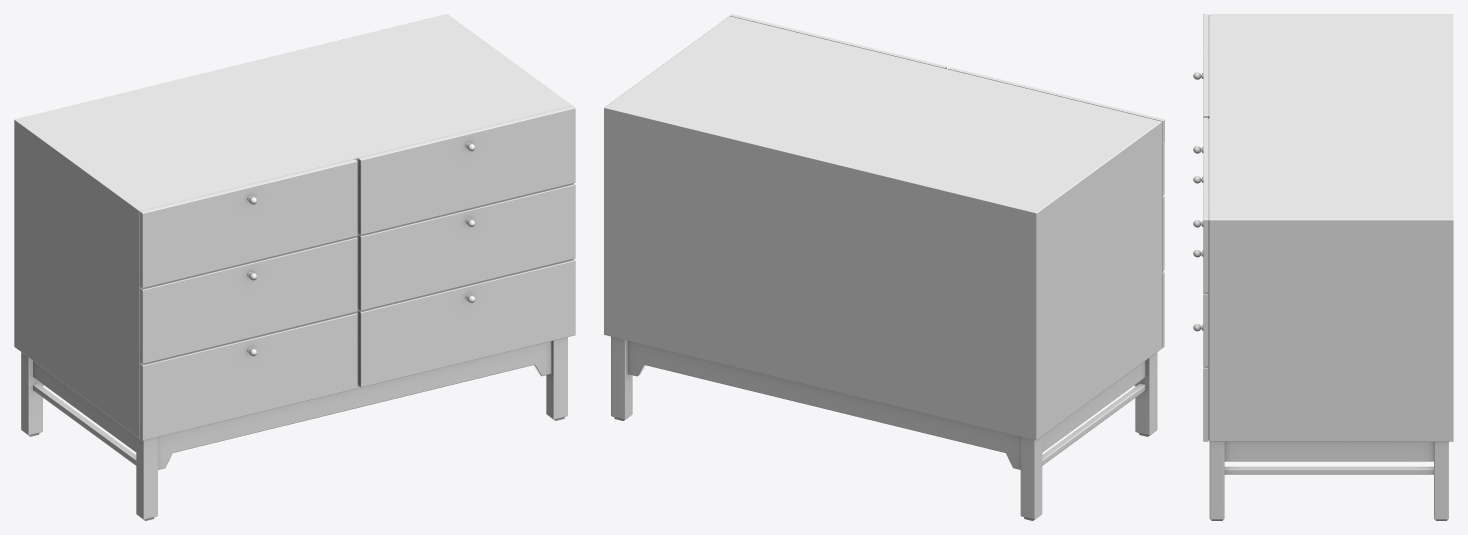
File: dresser2.glb
3 renders of one model, left to right at view 1: azimuth 30°, elevation 25°; view 2: azimuth 150°, elevation 25°; view 3: azimuth 270°, elevation 25°, orthographic. The views are drawn at different scales.
Parts seen in each view (by area): view 1: node_id482; view 2: node_id482; view 3: node_id482.
Part boxes in pixels (x1,y1,x2,y2): node_id482: (14,14,575,520); node_id482: (604,14,1164,520); node_id482: (1193,14,1453,520).
Size of the model in its own units: 0.512 by 0.3527 by 0.2735.
Materials: 1 (1 with a texture image).
